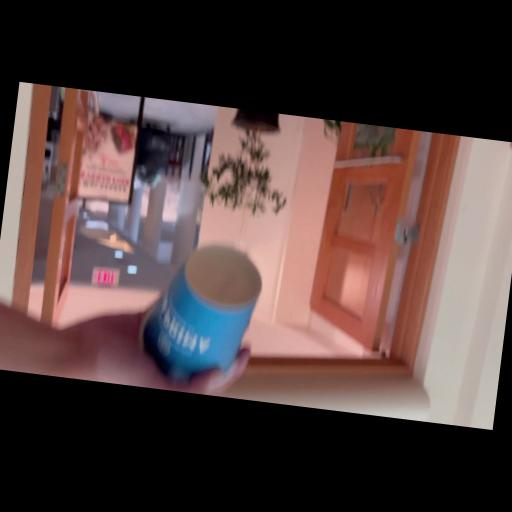lp_paper_cup: (130, 240, 264, 392)
